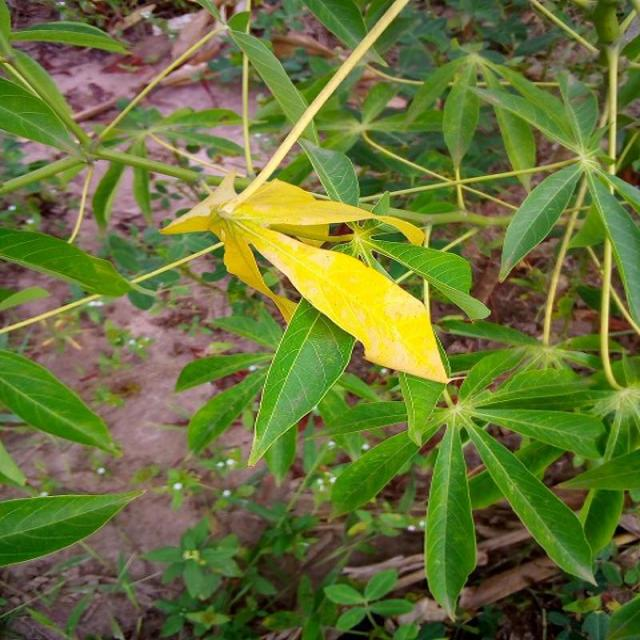cassava leaf: (220, 209, 450, 385), (246, 294, 356, 468)
